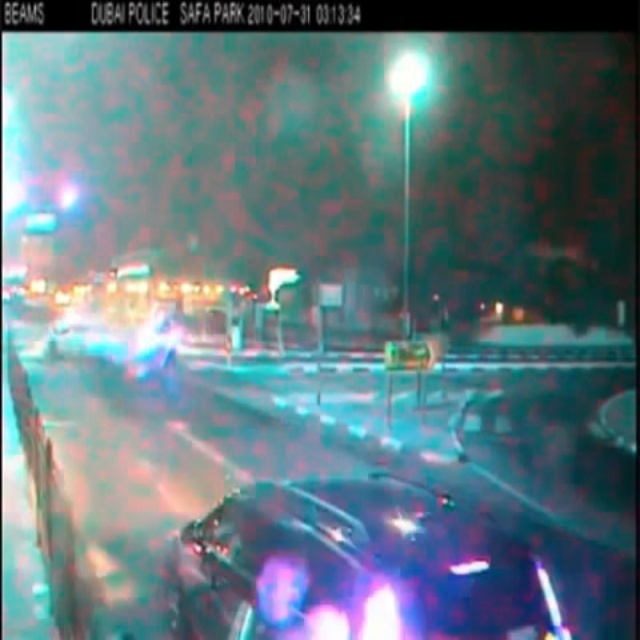acc: (40, 301, 213, 398)
